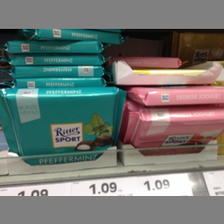chocolate: (1, 87, 126, 165), (127, 103, 224, 156)
